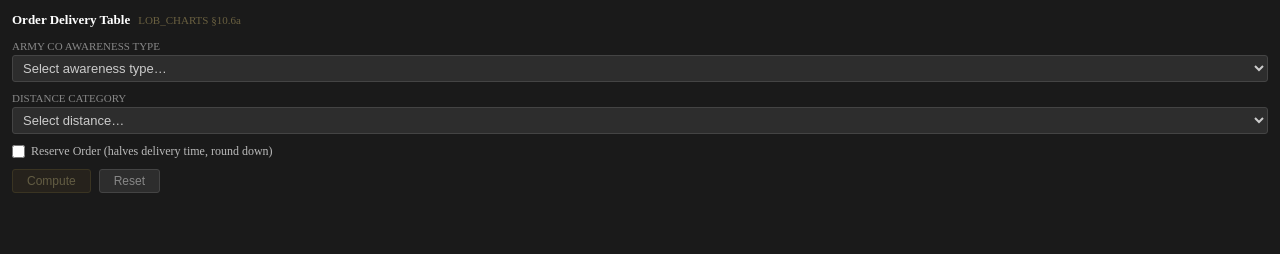
Scenario: OrderDeliveryPanel › displays turns to deliver after successful POST
Select "Normal (+2 turns) — SM default" in the dropdown labelled "Army CO Awareness Type" at (640, 68), box [12,55,1268,82]
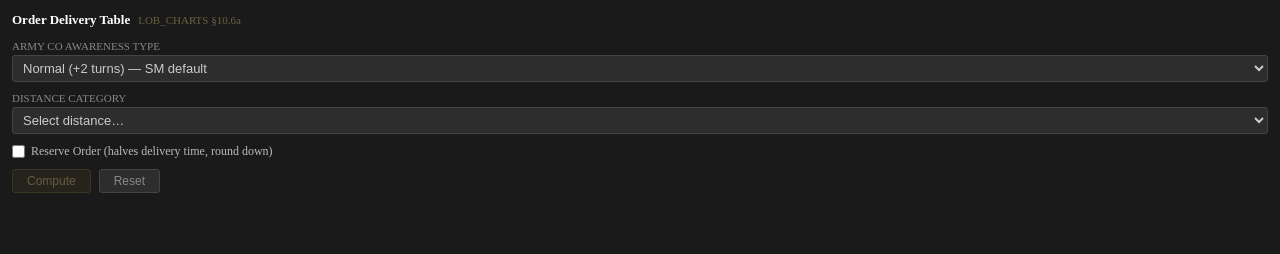
Select "Beyond Command Radius (+2 turns)" in the dropdown labelled "Distance Category" at (640, 120), box [12,107,1268,134]
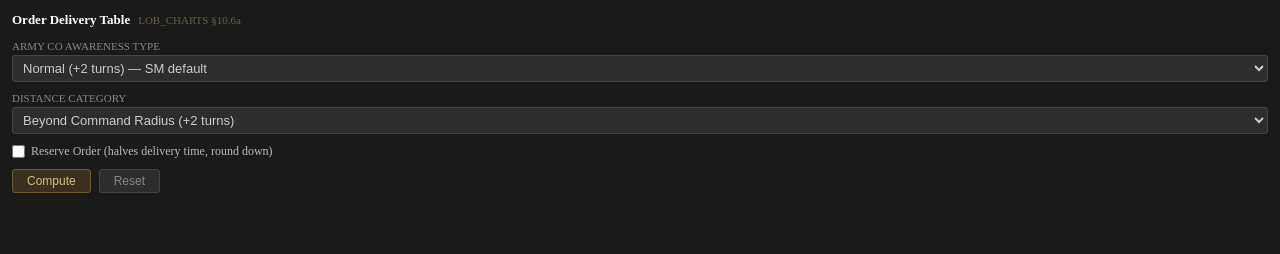
Click the button "Compute" at (51, 181), box [12,169,91,193]
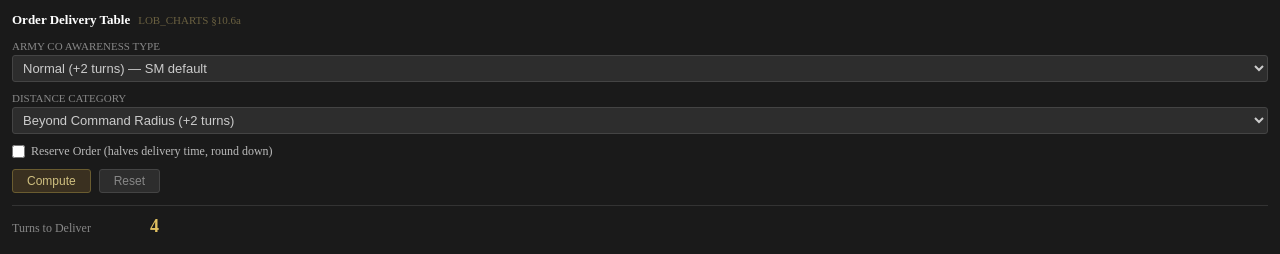
Check: the text "Turns to Deliver" is shown, box [12,221,91,235]
Check: the text "4" is shown, box [150,216,159,237]
